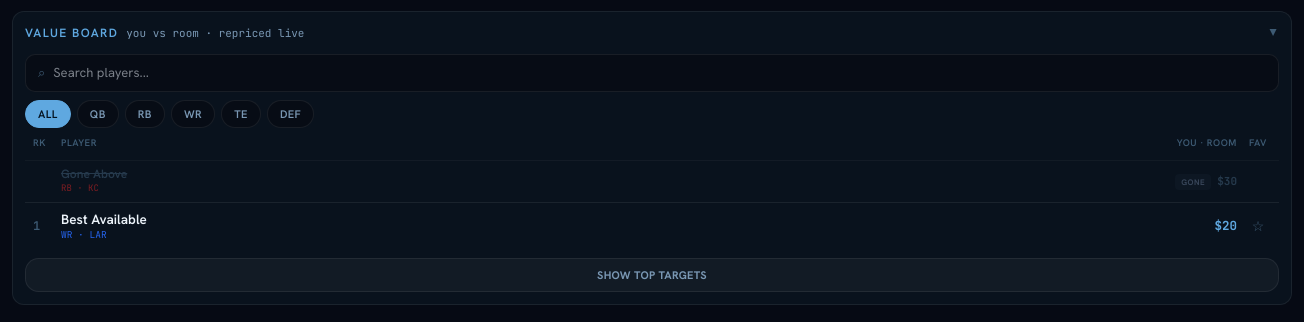
it: Value Board mine/gone interleaving (LB deferred) › shows gone studs ranked above every live target by default, and collapses them away on demand
Check: the text "Gone Above" is shown, box 61,166 -> 127,182
// Collapsing to the focused view drops players ranked above the first live target.
Click the button "Show top targets": (652, 275) 25,258 -> 1279,292
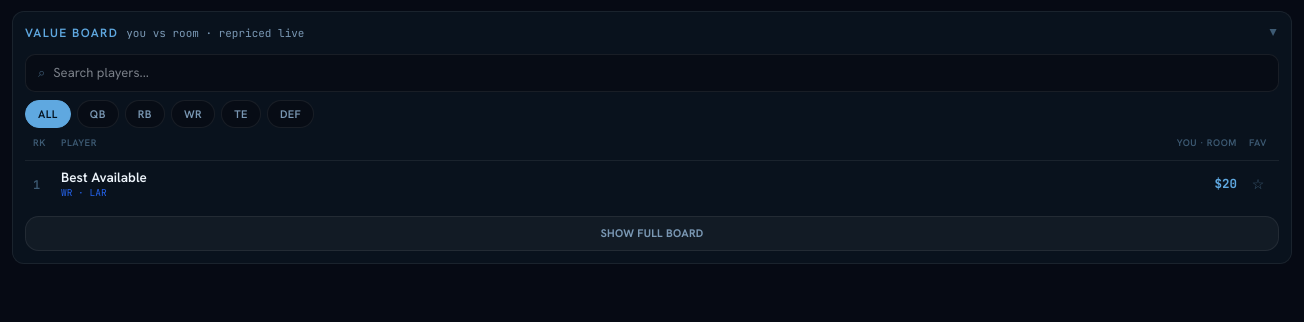
Check: the text "Gone Above" is gone
